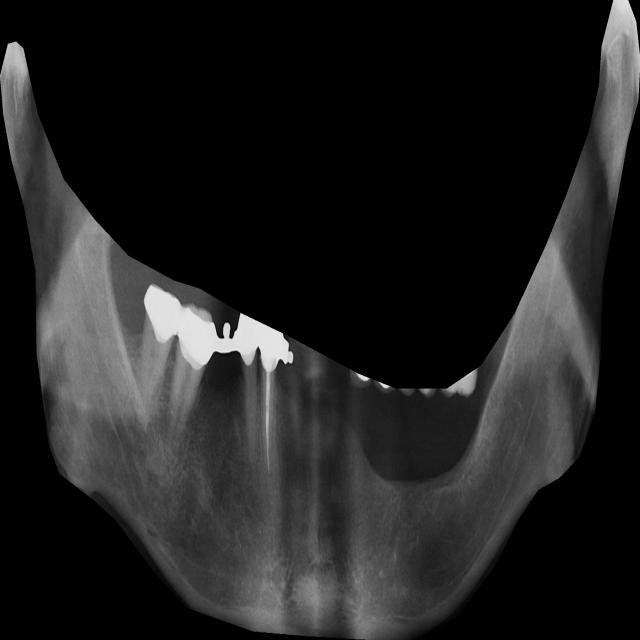mandibula: (0, 0, 640, 640)
